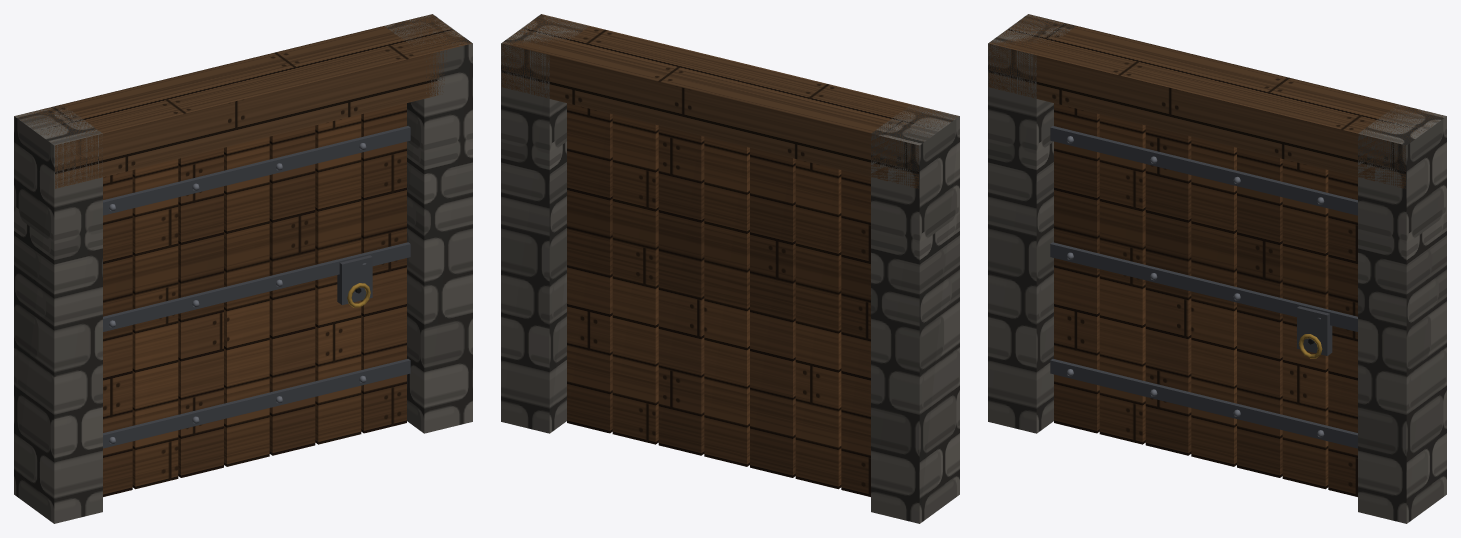
File: felstuer.glb
3 renders of one model, left to right at view 1: azimuth 30°, elevation 25°; view 2: azimuth 150°, elevation 25°; view 3: azimuth 330°, elevation 25°, orthographic.
Visible parts, largest first — view 1: modell; view 2: modell; view 3: modell.
Boxes of the visible parts, <box> form: modell: <box>14,14,472,523</box>; modell: <box>501,14,959,523</box>; modell: <box>988,14,1446,523</box>.
Bounding box in the file's own units: 3.01 × 2.6 × 0.5.
4 materials, 2 textured.
